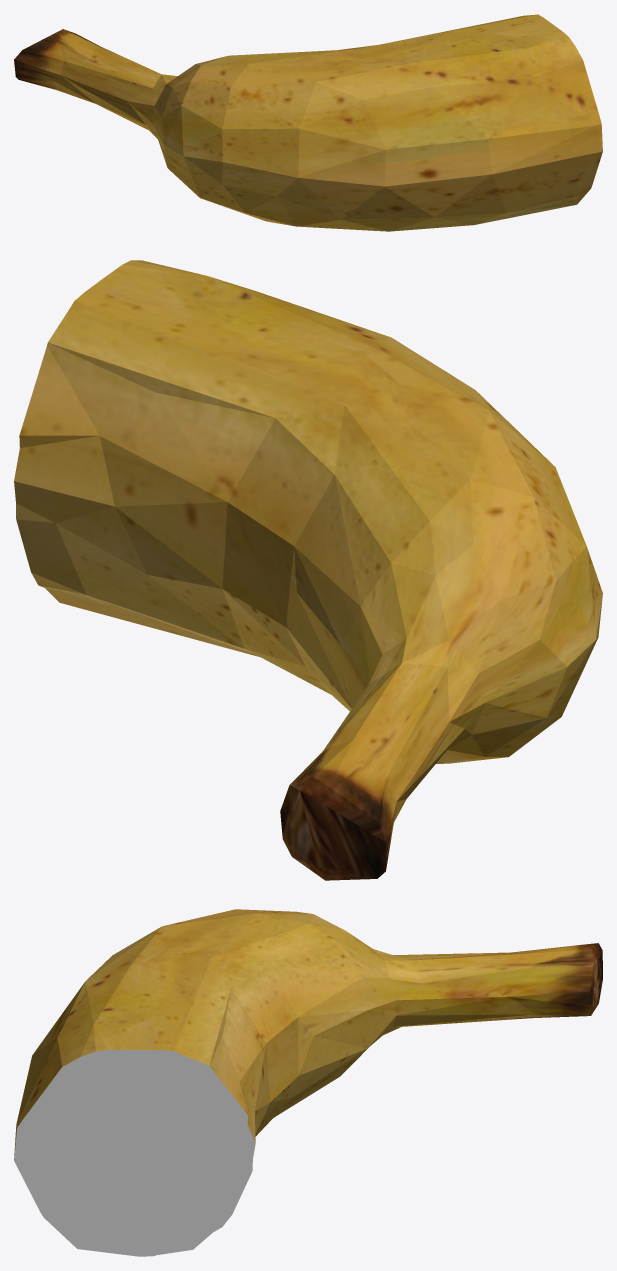
Rendered from banaanB.obj.
3 views of the same model, one above another, from view 1: azimuth 30°, elevation 25°; view 2: azimuth 150°, elevation 25°; view 3: azimuth 270°, elevation 25° (orthographic). The views are drawn at different scales.
Visible parts, largest first — view 1: Object.1; view 2: Object.1; view 3: Object.1.
Boxes of the visible parts, x1,y1,x2,y2 form: Object.1: [14, 14, 602, 231]; Object.1: [14, 260, 602, 880]; Object.1: [14, 909, 602, 1256].
Bounding box in the file's own units: 28.15 × 13.08 × 33.55.
2 materials, 1 textured.
